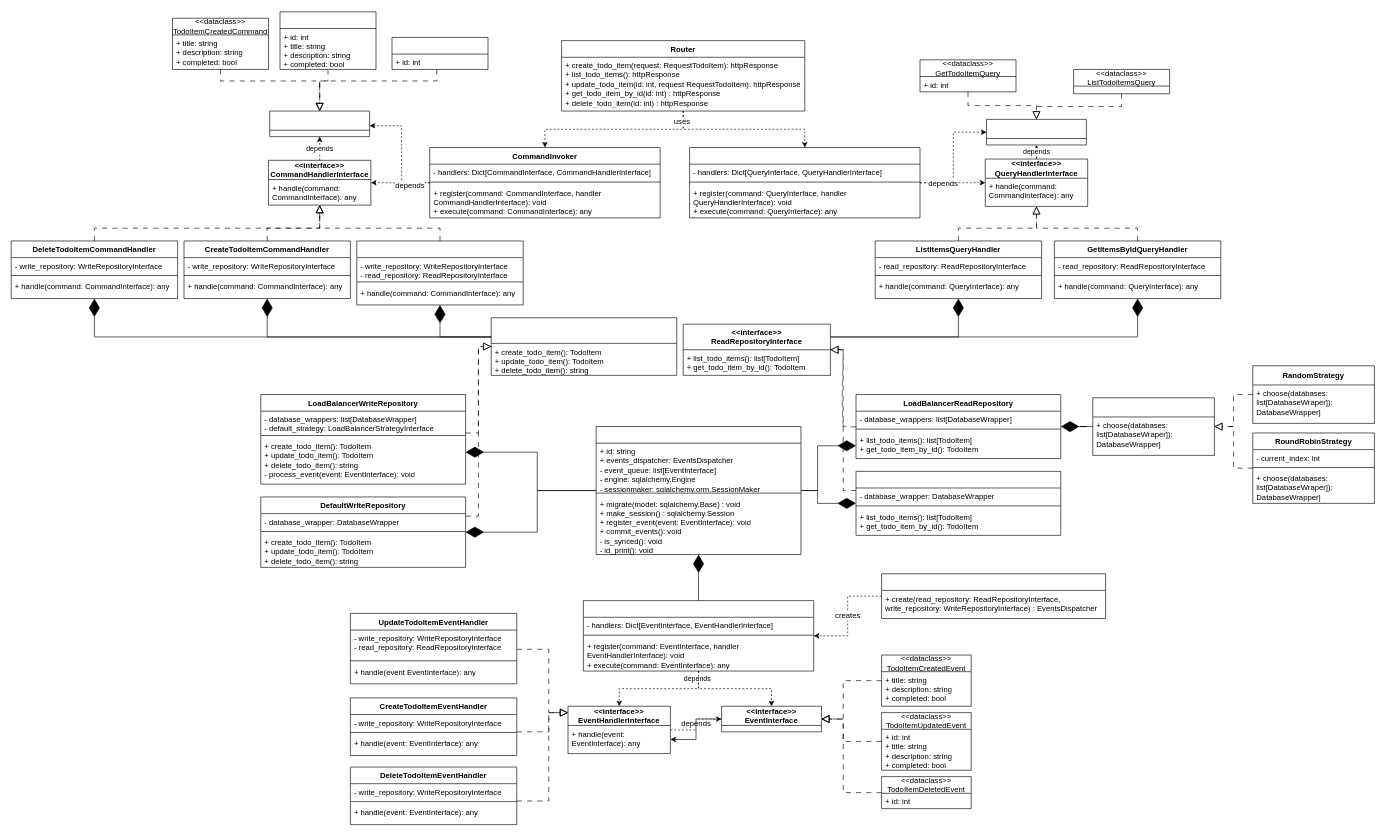
Some shapes in this 1386 by 838 pixel diagram are drawn without their labels. Each missing label, with the box of its shape:
<<dataclass>> TodoItemDeletedCommand: (391, 37, 488, 69)
<<dataclass>> TodoItemUpdatedCommand: (279, 11, 376, 69)
<<interface>> CommandInterface: (269, 110, 370, 137)
<<interface>> LoadBalancingStrategyInterface: (1092, 397, 1214, 455)
<<interface>> QueryInterface: (986, 119, 1086, 145)
<<interface>> WriteRepositoryInterface: (491, 317, 677, 375)
DatabaseWrapper: (596, 426, 801, 555)
DefaultReadRepository: (855, 471, 1061, 535)
EventsDispatcher: (583, 600, 814, 671)
EventsDispatcherFactory: (881, 573, 1106, 619)
QueryInvoker: (689, 147, 920, 218)
UpdateTodoItemCommandHandler: (356, 240, 523, 305)
